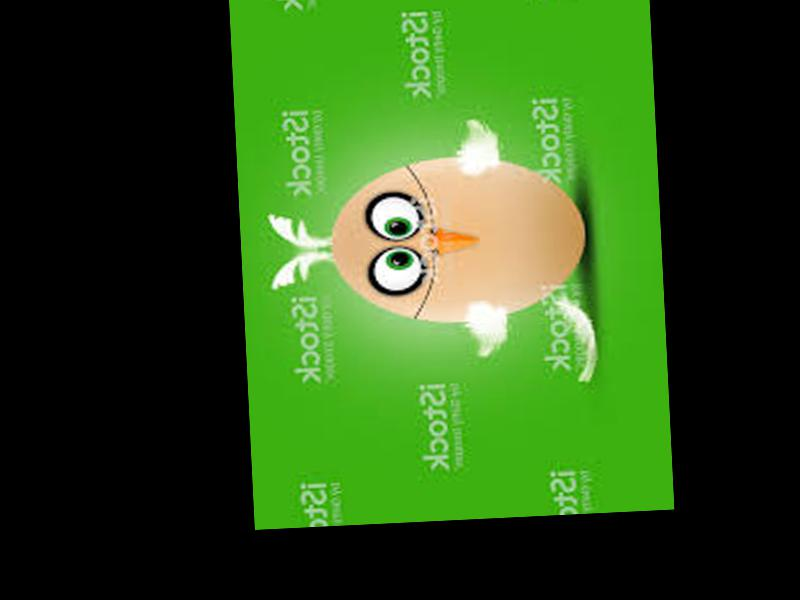Eggs: (327, 153, 591, 328)
